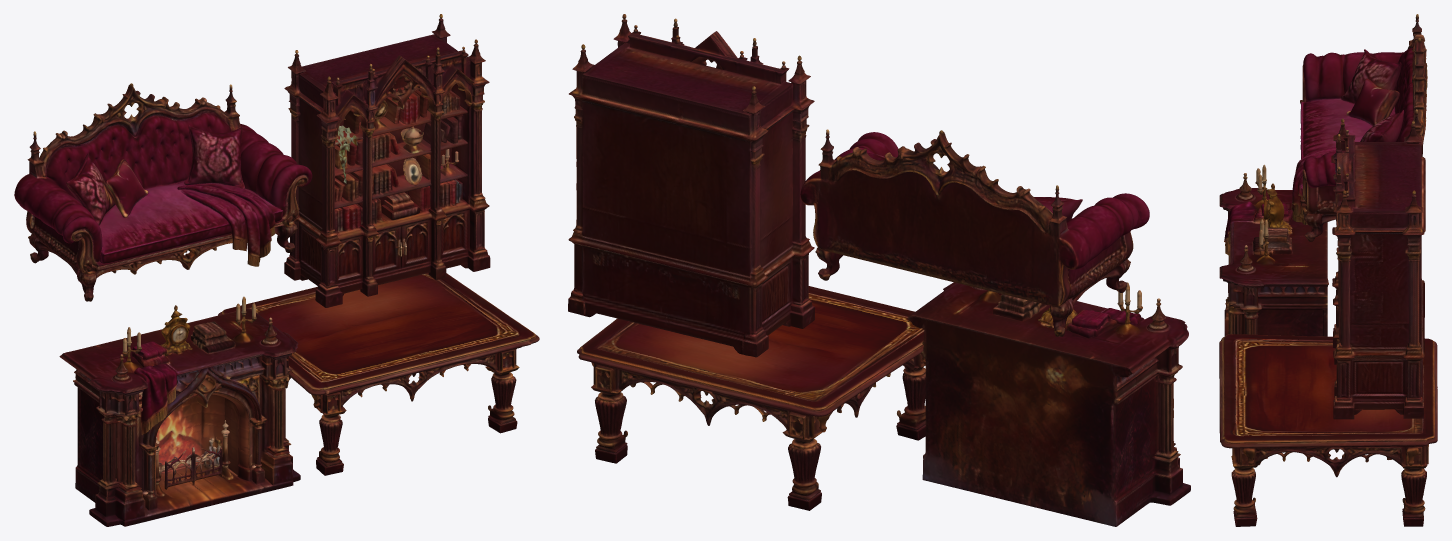
The model's file is interior-furniture.glb.
3 views of the same model, side by side, from view 1: azimuth 30°, elevation 25°; view 2: azimuth 150°, elevation 25°; view 3: azimuth 270°, elevation 25° (orthographic). The views are drawn at different scales.
Parts seen in each view (by area): view 1: model; view 2: model; view 3: model.
Part boxes in pixels (bbox=[...]): model: bbox=[14, 14, 539, 526]; model: bbox=[568, 14, 1190, 526]; model: bbox=[1219, 14, 1437, 526].
Bounding box in the file's own units: 1.9 × 1.45 × 0.826.
Materials: 1 (1 with a texture image).
